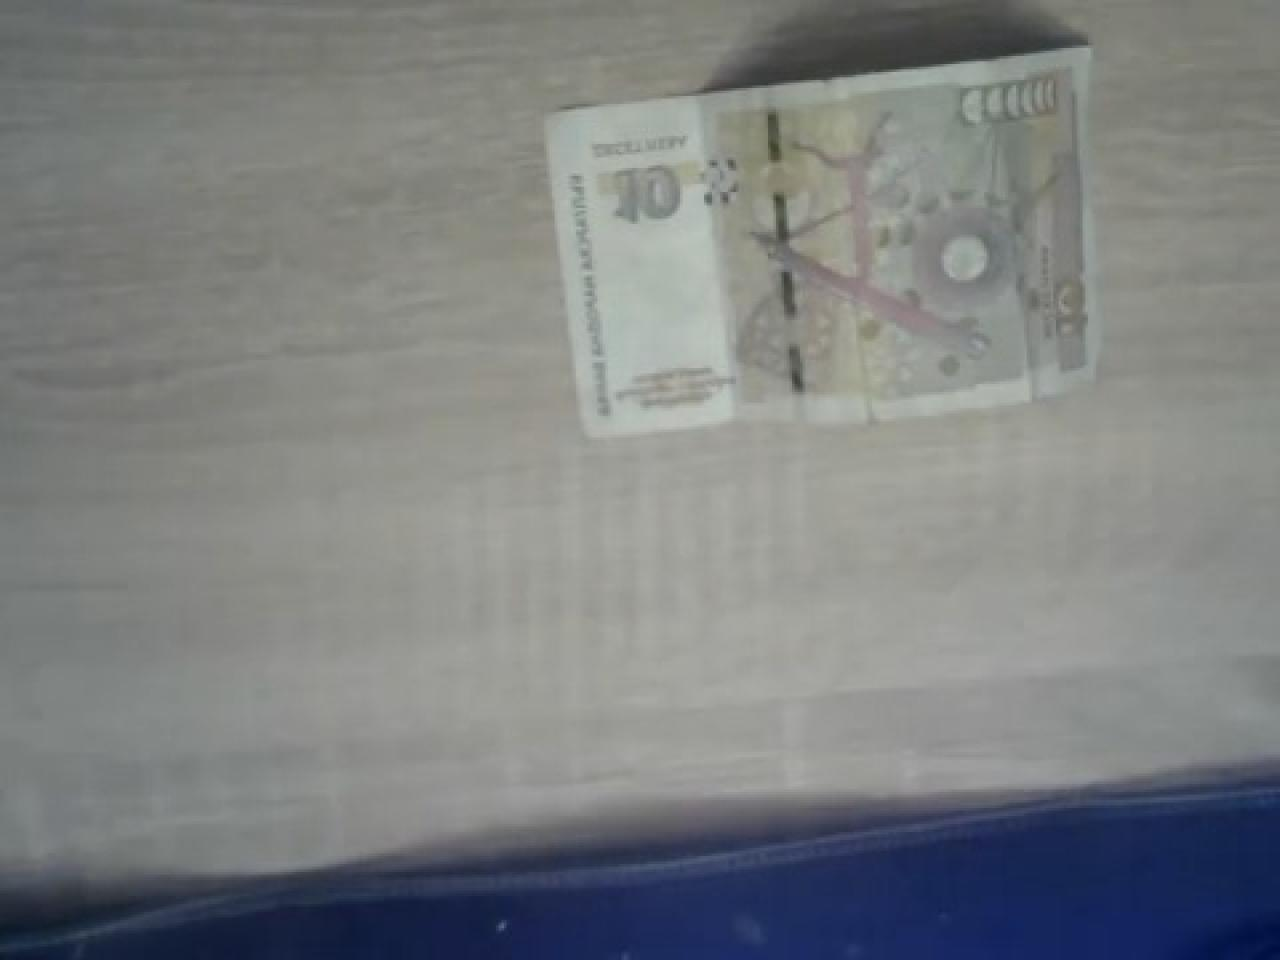10leva: (541, 40, 1104, 438)
